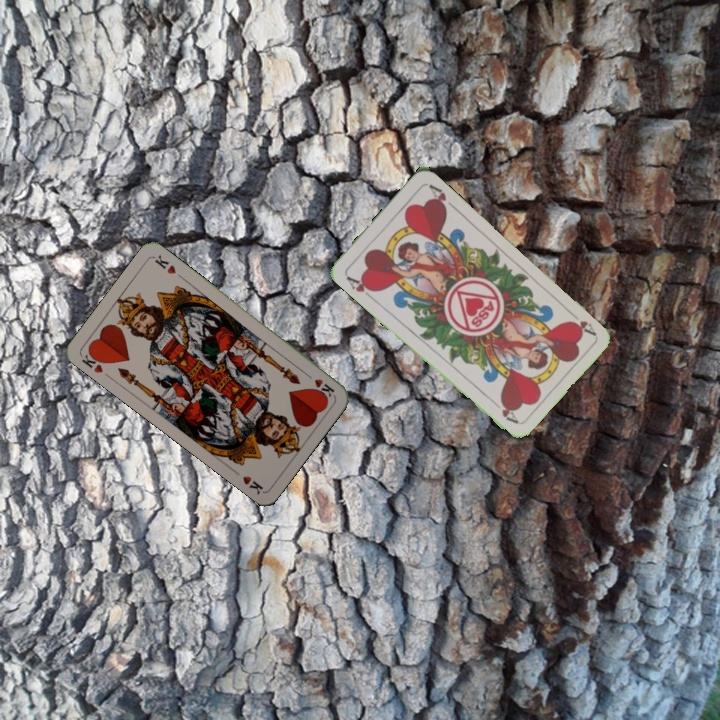HA: (342, 272, 379, 302), (564, 306, 598, 338)
HK: (301, 368, 337, 400), (77, 346, 109, 376)
